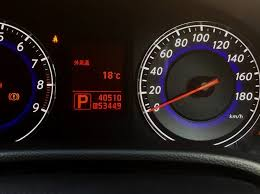Digital_Meter: (71, 90, 123, 111)
